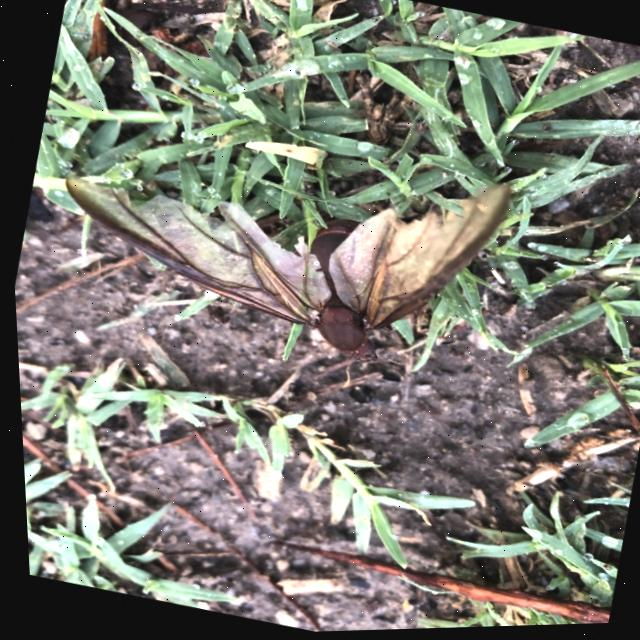Alive-Female-Alate: (25, 89, 519, 428)
